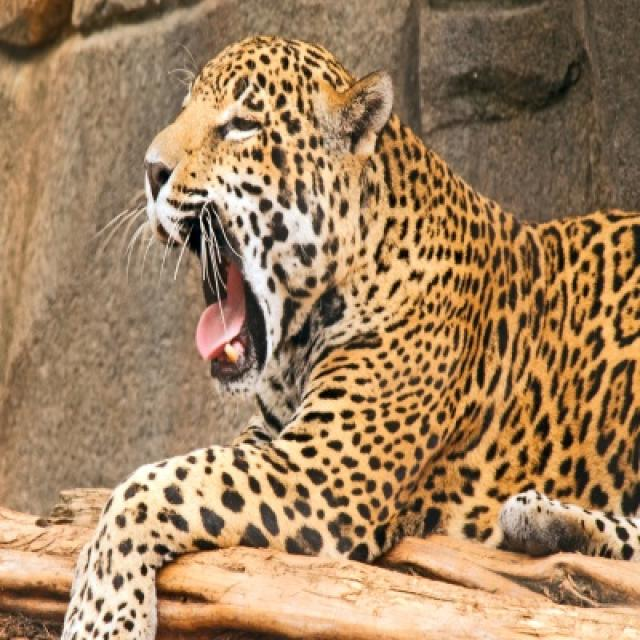Jaguar: (59, 34, 638, 638)
